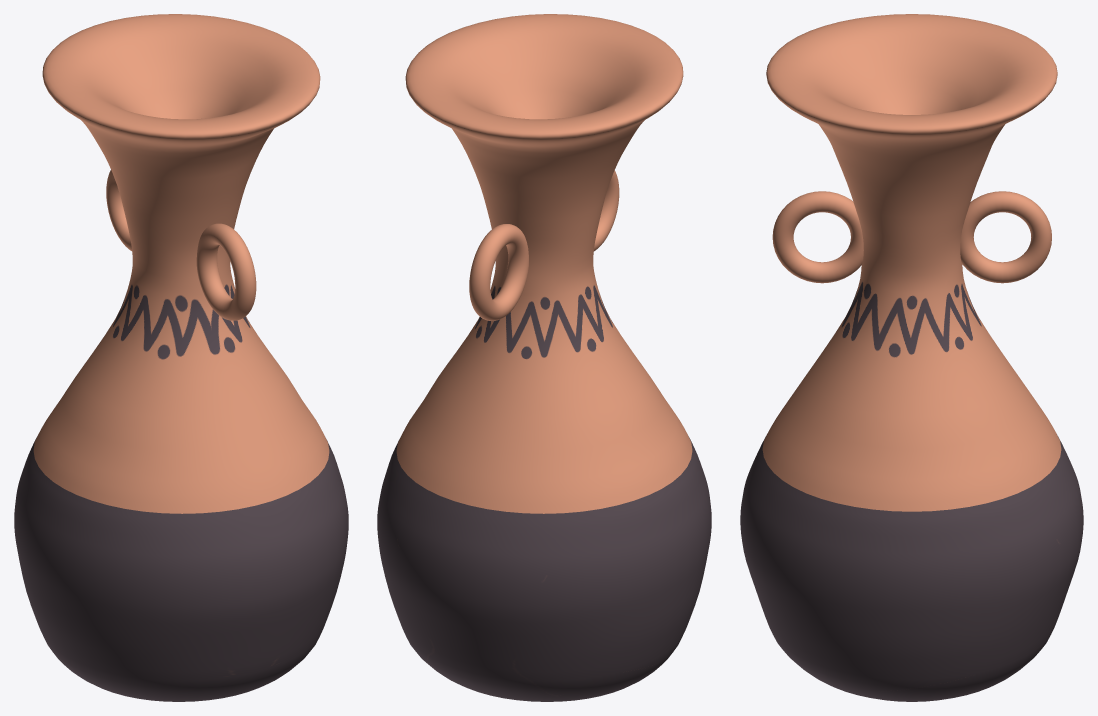
The model's file is Vase1.fbx.
3 views of the same model, side by side, from view 1: azimuth 30°, elevation 25°; view 2: azimuth 150°, elevation 25°; view 3: azimuth 270°, elevation 25° (orthographic).
Visible parts, largest first — view 1: Vase1; view 2: Vase1; view 3: Vase1.
Boxes of the visible parts, x1,y1,x2,y2 form: Vase1: (14, 14, 348, 701); Vase1: (377, 14, 711, 701); Vase1: (740, 14, 1083, 701).
Bounding box in the file's own units: 34.53 × 68.37 × 35.62.
